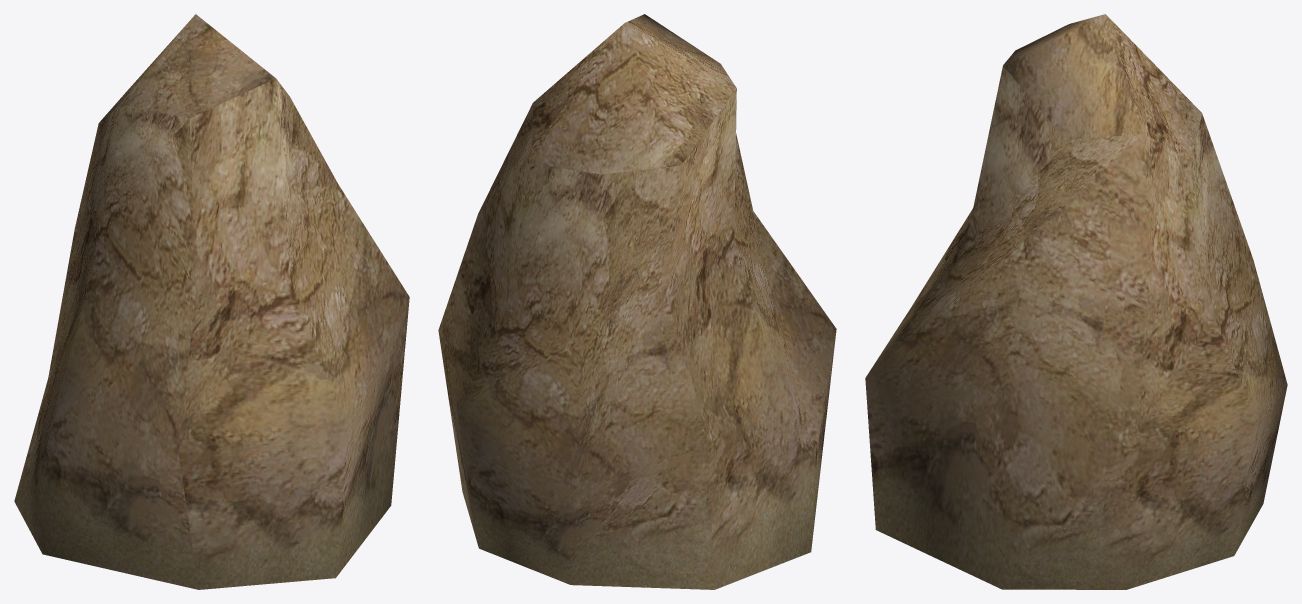
Rendered from w_cd_stone_02_01.glb.
3 renders of one model, left to right at view 1: azimuth 30°, elevation 25°; view 2: azimuth 150°, elevation 25°; view 3: azimuth 270°, elevation 25°, orthographic. The views are drawn at different scales.
Parts seen in each view (by area): view 1: w_cd_stone_02_01; view 2: w_cd_stone_02_01; view 3: w_cd_stone_02_01.
Boxes of the visible parts, bbox=[...] form: w_cd_stone_02_01: bbox=[14, 14, 409, 589]; w_cd_stone_02_01: bbox=[438, 14, 836, 589]; w_cd_stone_02_01: bbox=[865, 14, 1287, 589].
Size of the model in its own units: 19.24 by 26.64 by 20.27.
Materials: 1 (1 with a texture image).
